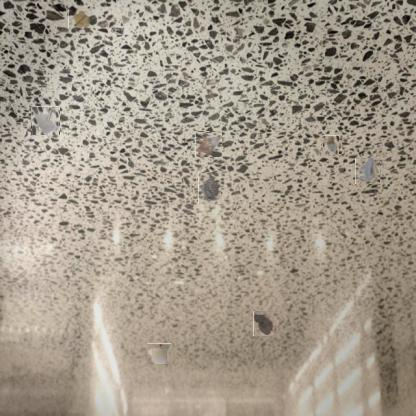dirty: (31, 107, 60, 135), (198, 172, 221, 204), (195, 131, 222, 157), (355, 158, 380, 184), (147, 343, 171, 364), (322, 137, 341, 155)
liquid: (253, 310, 274, 336), (68, 9, 91, 29)
